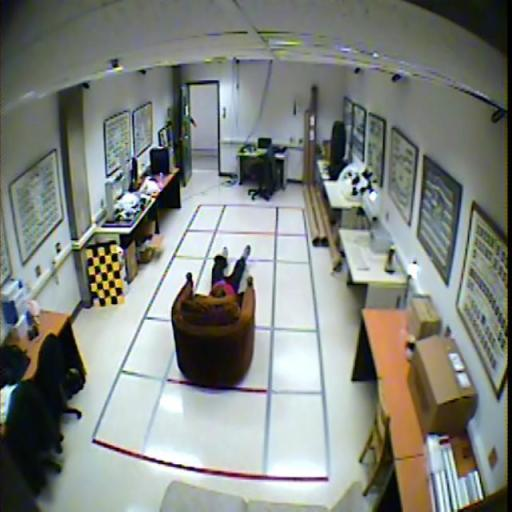Fall: (210, 243, 251, 298)
